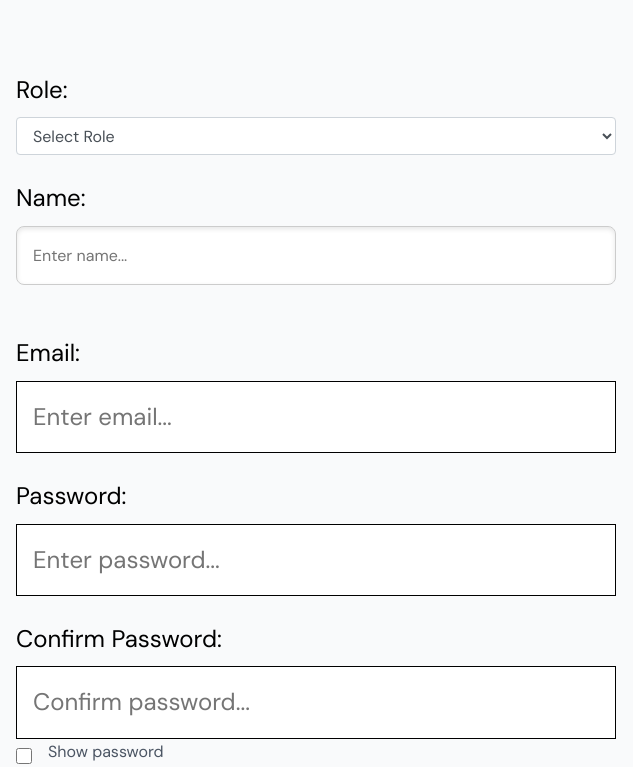
Test: Register Component › unsuccessful registration with password mismatch
Fill the form fields
In the field with placeholder "Enter name...": (316, 256) [16,226,616,285], type "John Doe"
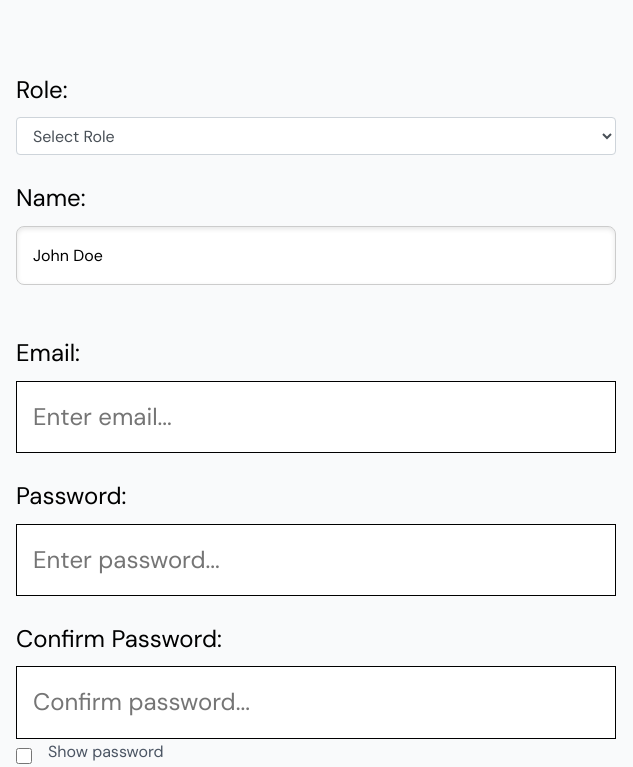
In the field with placeholder "Enter email...": (316, 417) [16,381,616,453], type "john.doe@gmail.com"
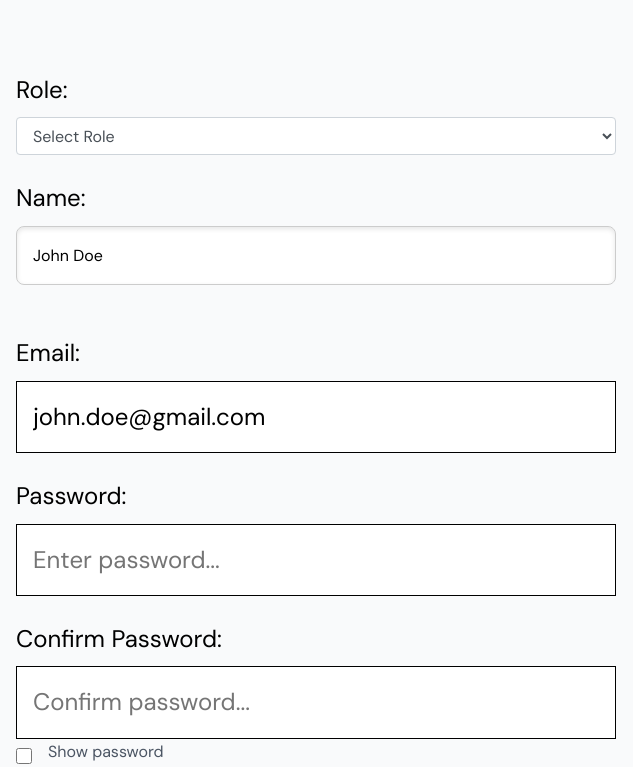
In the password field with placeholder "Enter password...": (316, 560) [16,524,616,596], type "password123"
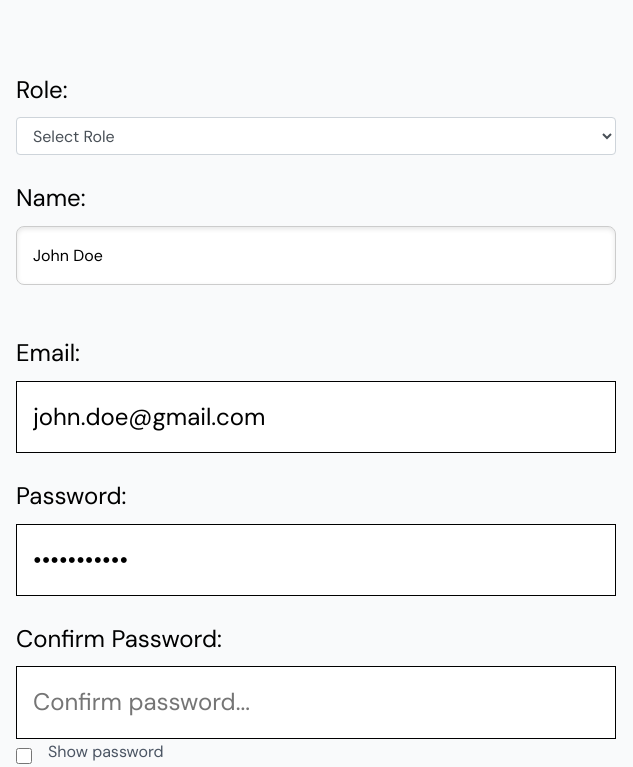
In the password field with placeholder "Confirm password...": (316, 702) [16,666,616,739], type "differentPassword"
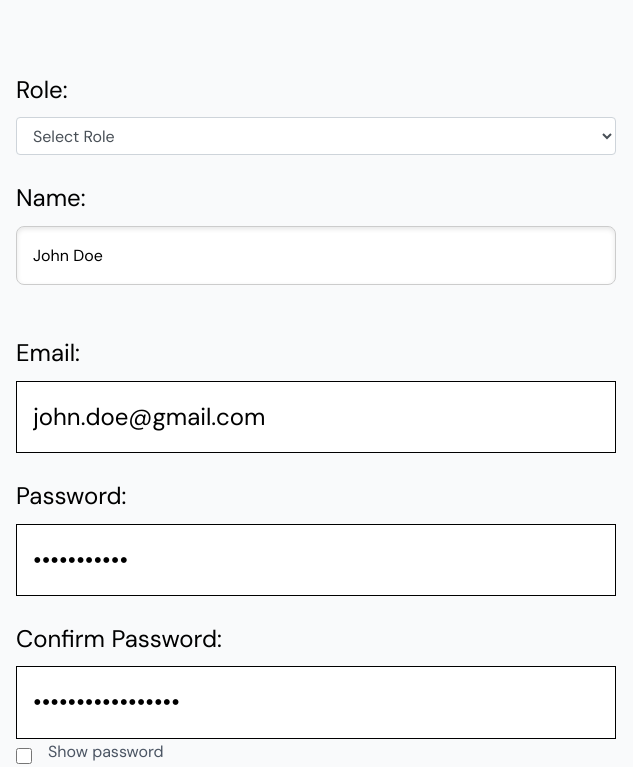
Select "Student" in the dropdown labelled "Role:": (316, 136) [16,117,616,155]
(page scrolled)
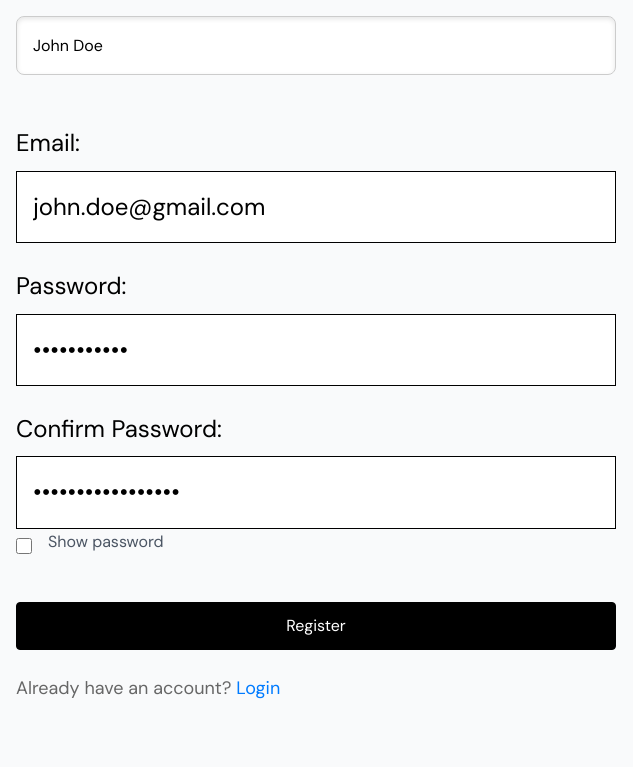
Click the button "Register": (316, 626) [16,602,616,650]
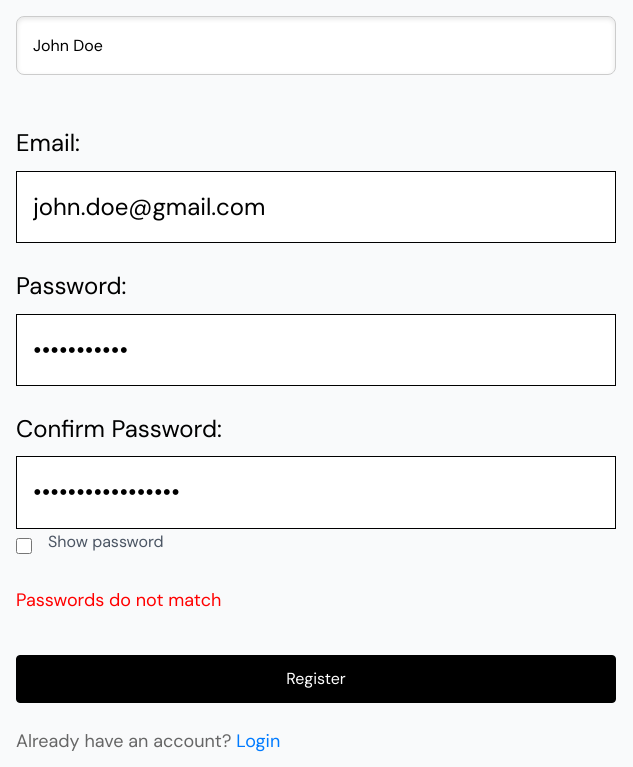
Now the text "Passwords do not match" is shown, box [16,586,616,615]
